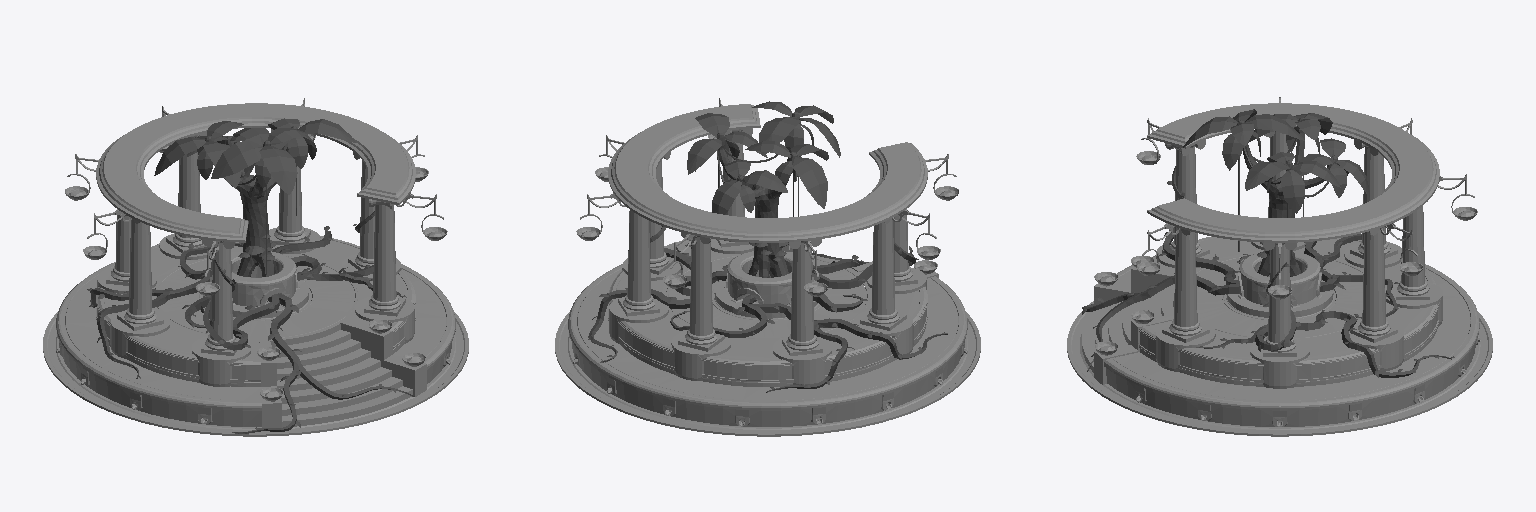
Rendered from Temple.obj.
3 renders of one model, left to right at view 1: azimuth 30°, elevation 25°; view 2: azimuth 150°, elevation 25°; view 3: azimuth 270°, elevation 25°, orthographic.
Visible parts, largest first — view 1: cage_stairs_01; view 2: cage_stairs_01; view 3: cage_stairs_01.
Part boxes in pixels (left/top/right/bottom): cage_stairs_01: left=43, top=98, right=468, bottom=436; cage_stairs_01: left=555, top=98, right=980, bottom=436; cage_stairs_01: left=1067, top=97, right=1492, bottom=436.
Bounding box in the file's own units: 1024 × 722 × 1024.